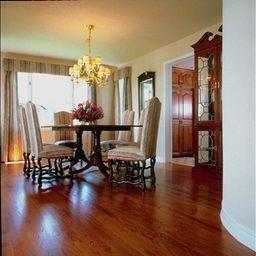Armario: (195, 42, 221, 184)
